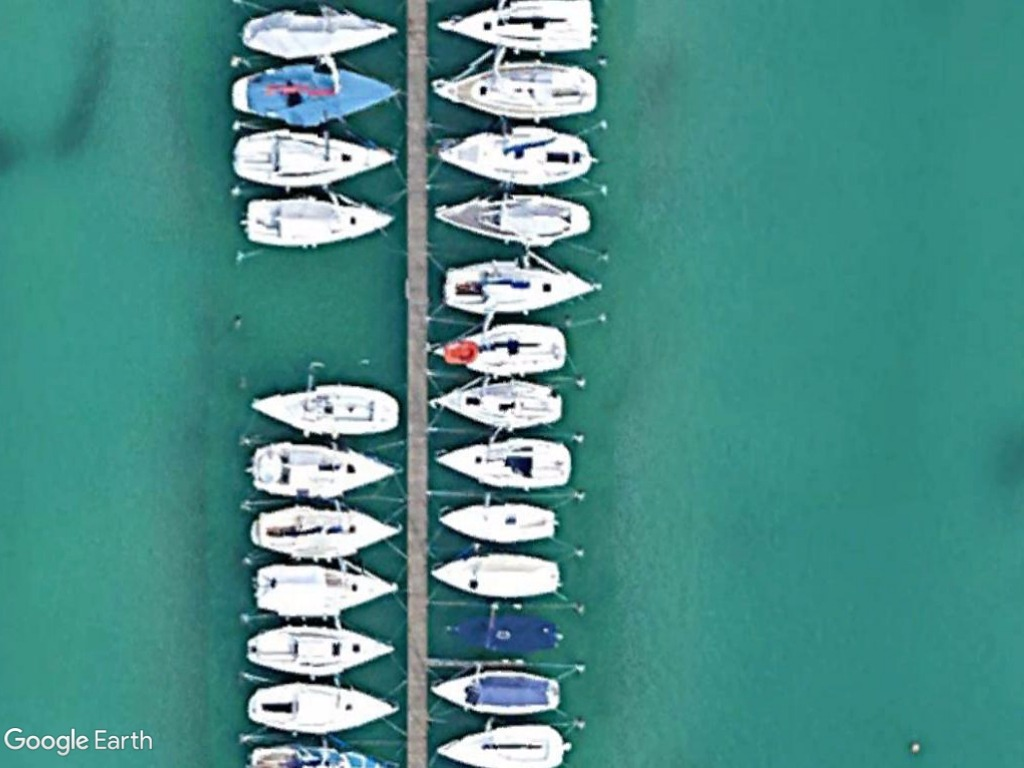boat: (229, 61, 403, 128), (427, 56, 602, 122), (432, 123, 602, 188), (228, 128, 399, 191), (434, 256, 598, 319), (428, 192, 597, 252), (242, 502, 404, 563), (240, 680, 400, 739), (241, 621, 400, 680), (432, 0, 599, 56), (244, 440, 396, 501), (245, 381, 402, 440), (239, 4, 401, 60), (247, 561, 398, 621), (426, 321, 571, 380), (242, 195, 398, 249), (425, 378, 568, 436), (430, 435, 576, 490), (426, 664, 565, 720), (426, 550, 563, 603), (440, 608, 568, 662), (434, 496, 558, 550), (432, 721, 566, 768)
